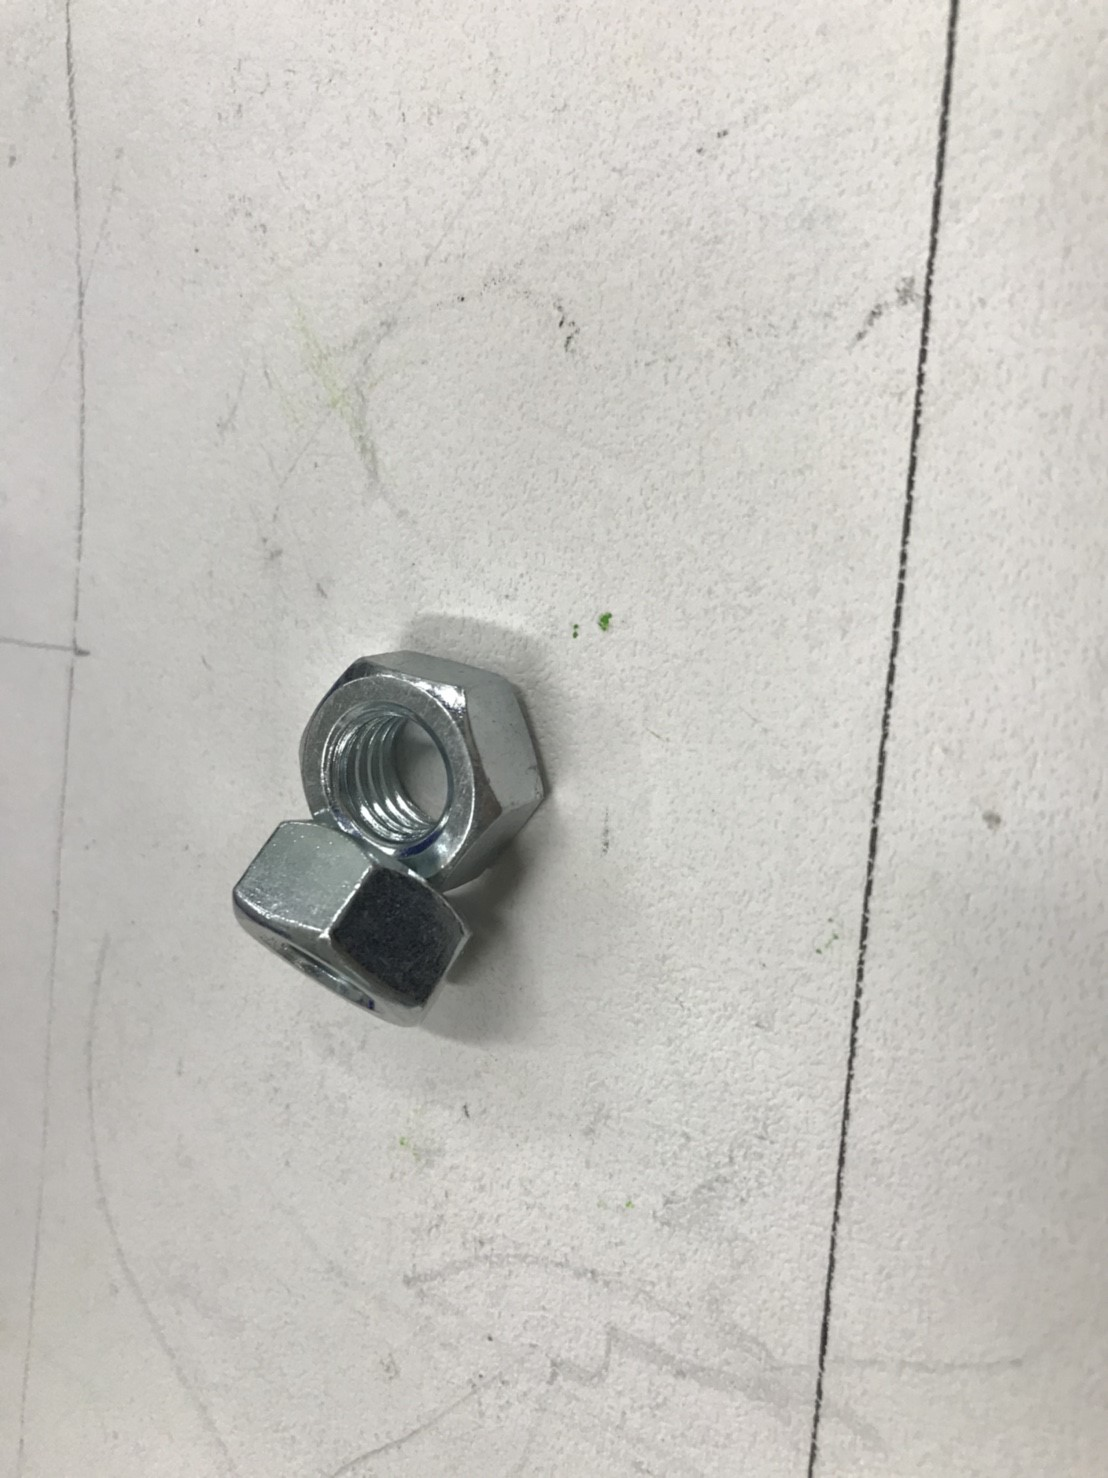nut: (300, 634, 556, 877), (205, 810, 481, 1019)
